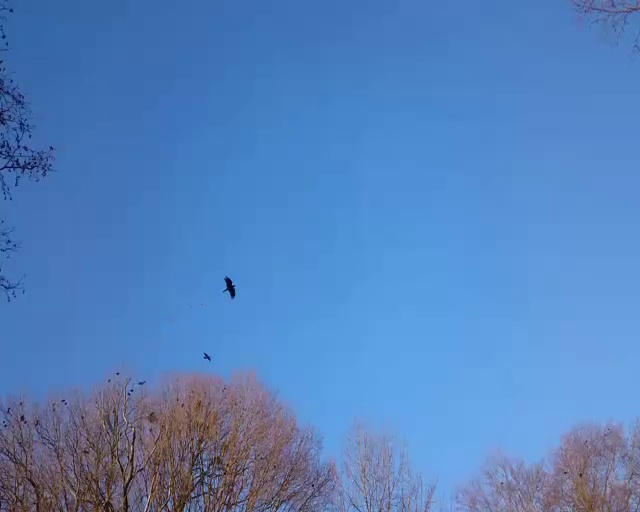BIRD: (223, 276, 236, 299)
